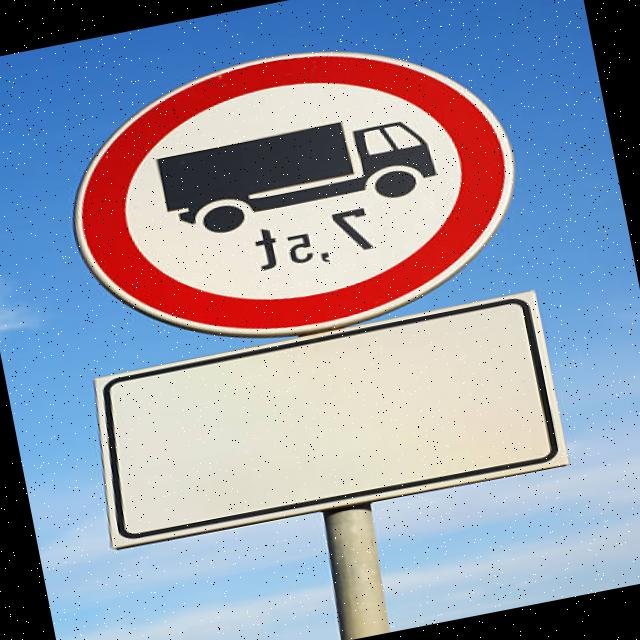do_not_enter: (20, 0, 552, 383)
